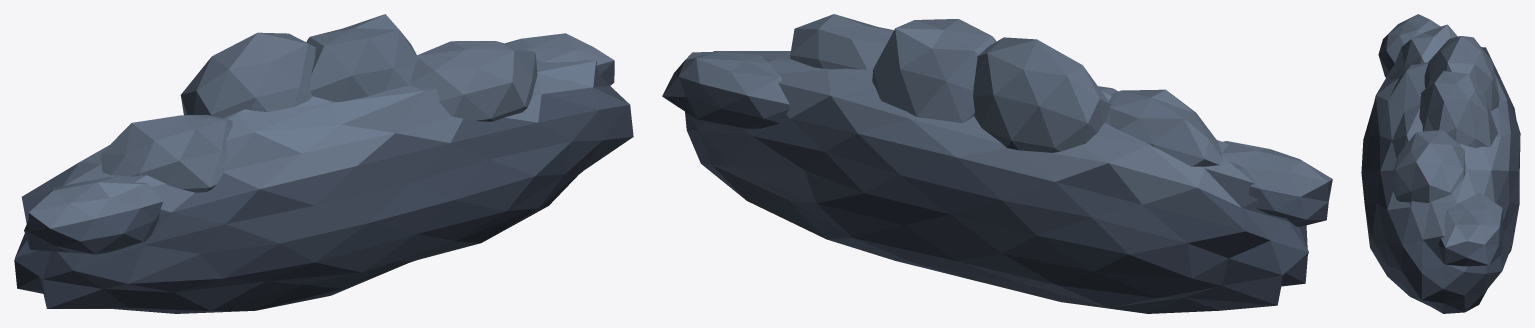
Rendered from bd_z1_rock_mound.glb.
3 views of the same model, side by side, from view 1: azimuth 30°, elevation 25°; view 2: azimuth 150°, elevation 25°; view 3: azimuth 270°, elevation 25° (orthographic). The views are drawn at different scales.
Parts seen in each view (by area): view 1: bd_z1_rock_mound; view 2: bd_z1_rock_mound; view 3: bd_z1_rock_mound.
Boxes of the visible parts, x1,y1,x2,y2 form: bd_z1_rock_mound: [14, 14, 633, 313]; bd_z1_rock_mound: [662, 14, 1332, 313]; bd_z1_rock_mound: [1361, 14, 1520, 313].
Size of the model in its own units: 11 by 4.4 by 3.2.
